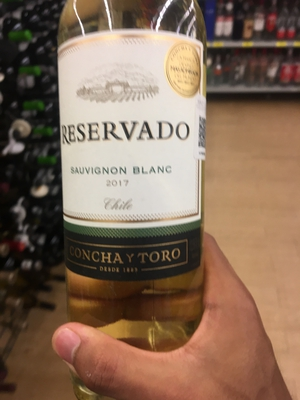reservado sauvignon blanc: (50, 4, 222, 371)
